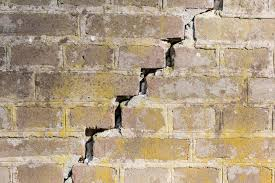stairstep_crack: (62, 0, 223, 182)
